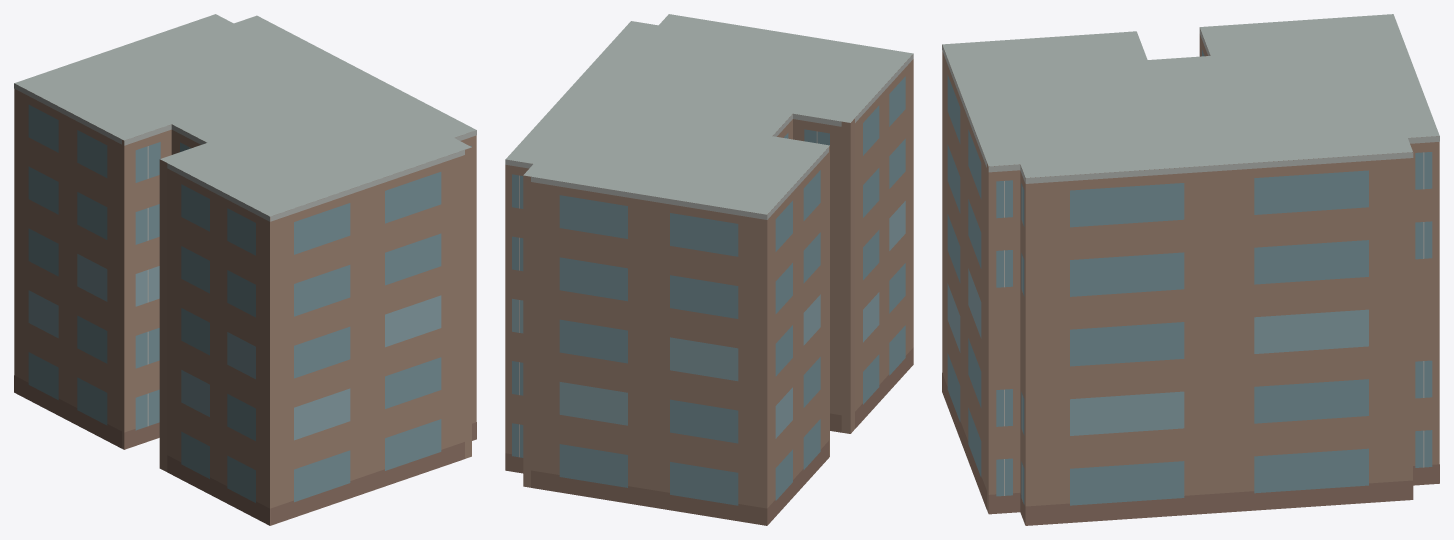
File: survey-upis-32738787.glb
3 renders of one model, left to right at view 1: azimuth 30°, elevation 25°; view 2: azimuth 150°, elevation 25°; view 3: azimuth 270°, elevation 25°, orthographic. The views are drawn at different scales.
Visible parts, largest first — view 1: survey-upis-32738787.tmp; view 2: survey-upis-32738787.tmp; view 3: survey-upis-32738787.tmp.
Part boxes in pixels (x1=…): survey-upis-32738787.tmp: x1=14, y1=14, x2=476, y2=525; survey-upis-32738787.tmp: x1=505, y1=14, x2=913, y2=525; survey-upis-32738787.tmp: x1=942, y1=14, x2=1439, y2=525.
Size of the model in its own units: 14.48 by 14.3 by 18.55.
